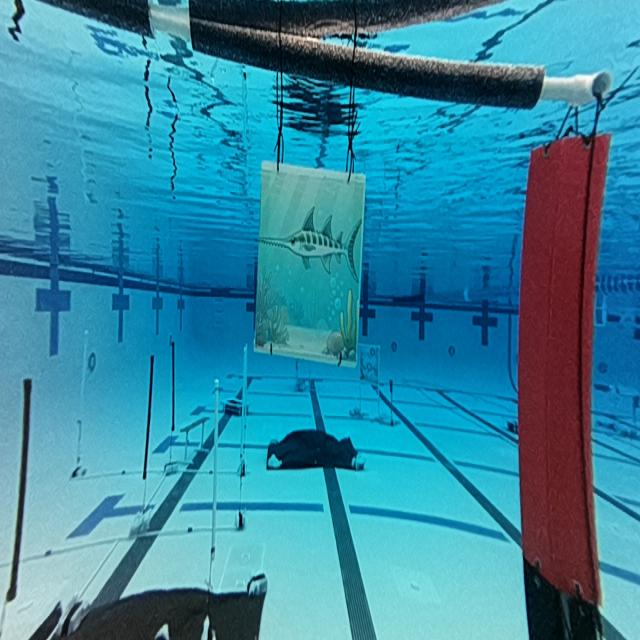pointed_nose: (256, 158, 365, 369)
